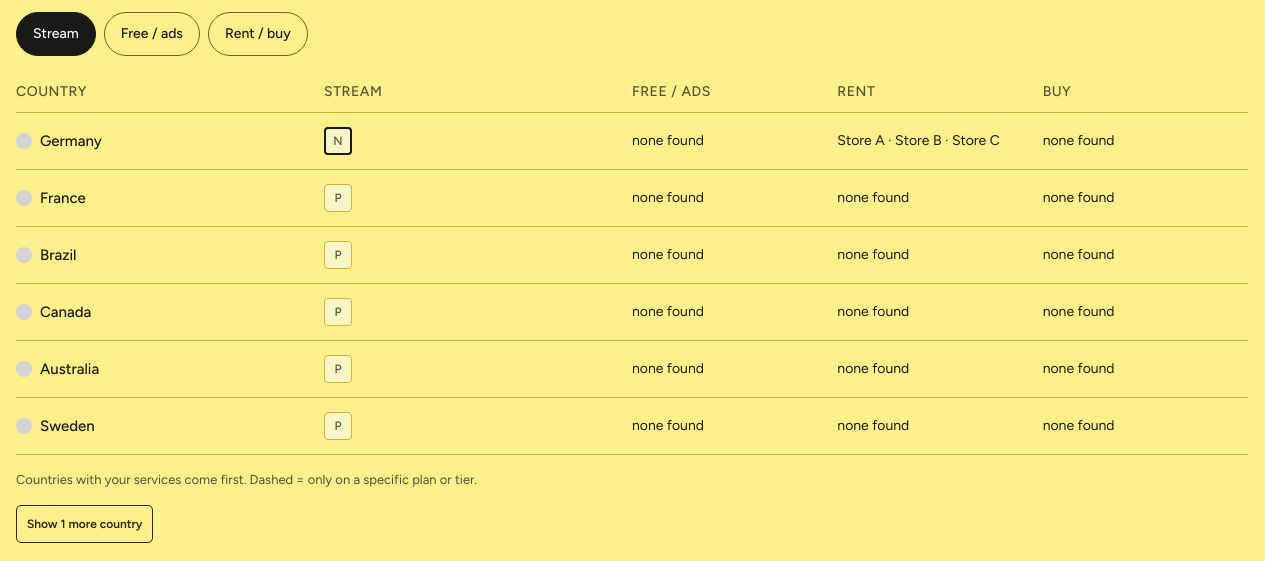
Test case: CountryTable › filters by offer type, then reveals the rest of that list
Expected: the text "Japan" is not shown
Expected: the text "Spain" is not shown
Click the button "Show 1 more country". click: (85, 524)
box: [16,505,153,543]
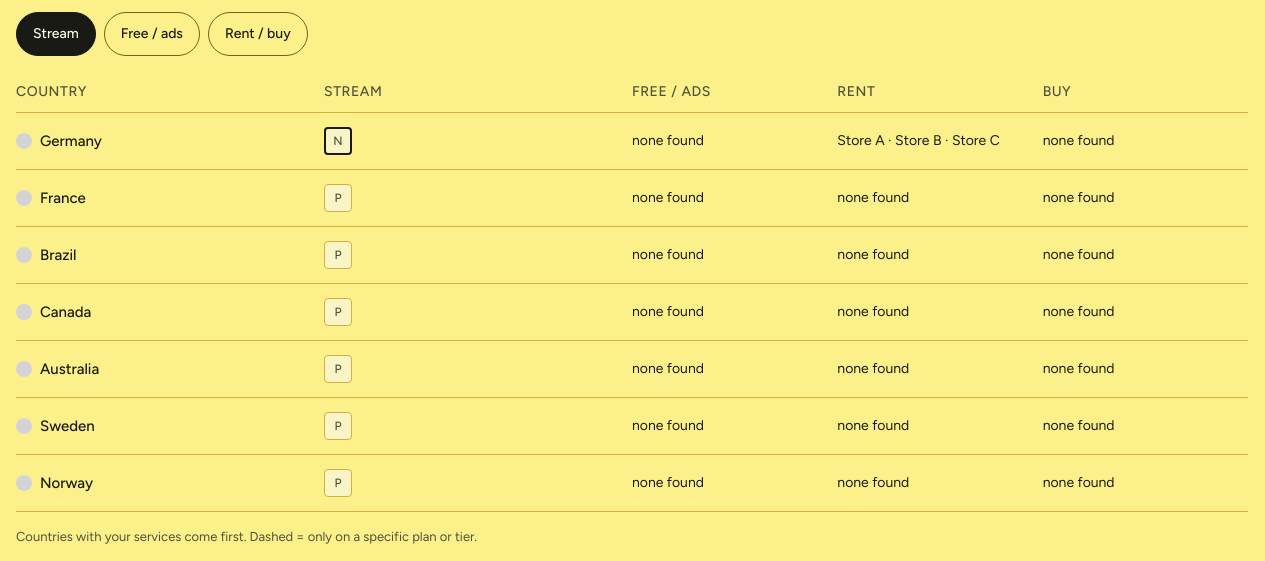
Expected: the text "Norway" is shown, [40,473,93,493]
Click the button "Rent / buy". click: (258, 34)
box: [208,12,308,56]
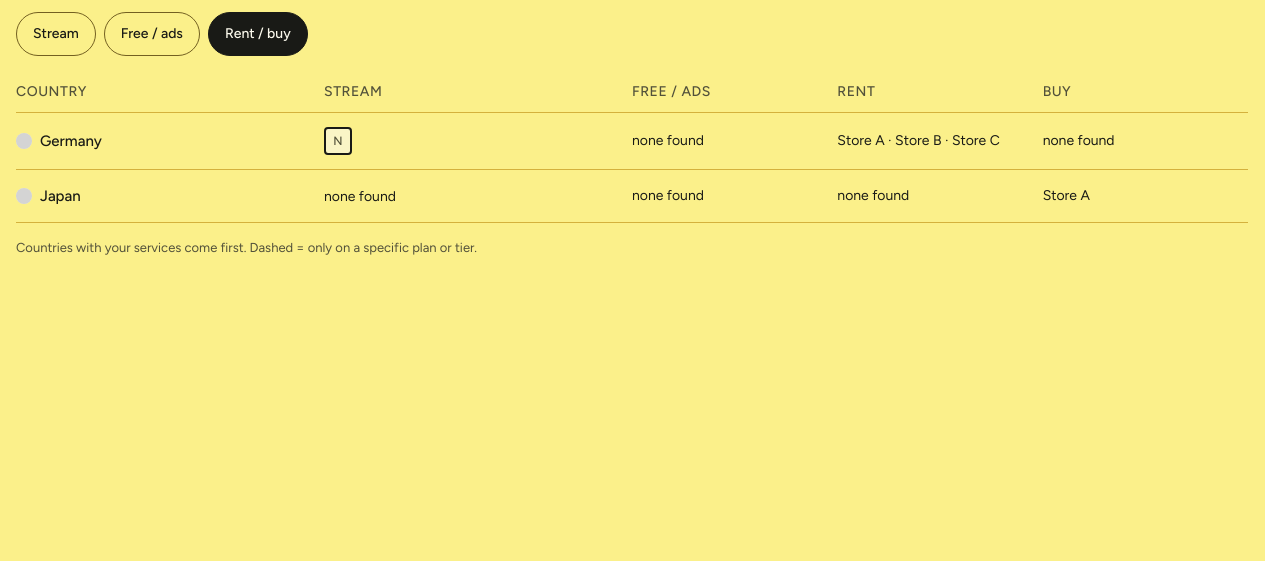
Expected: the text "Germany" is shown, [40,131,102,151]
Expected: the text "Japan" is shown, [40,186,81,206]
Expected: the text "France" is gone
Click the button "Free / ads". click: (152, 34)
box: [104,12,200,56]
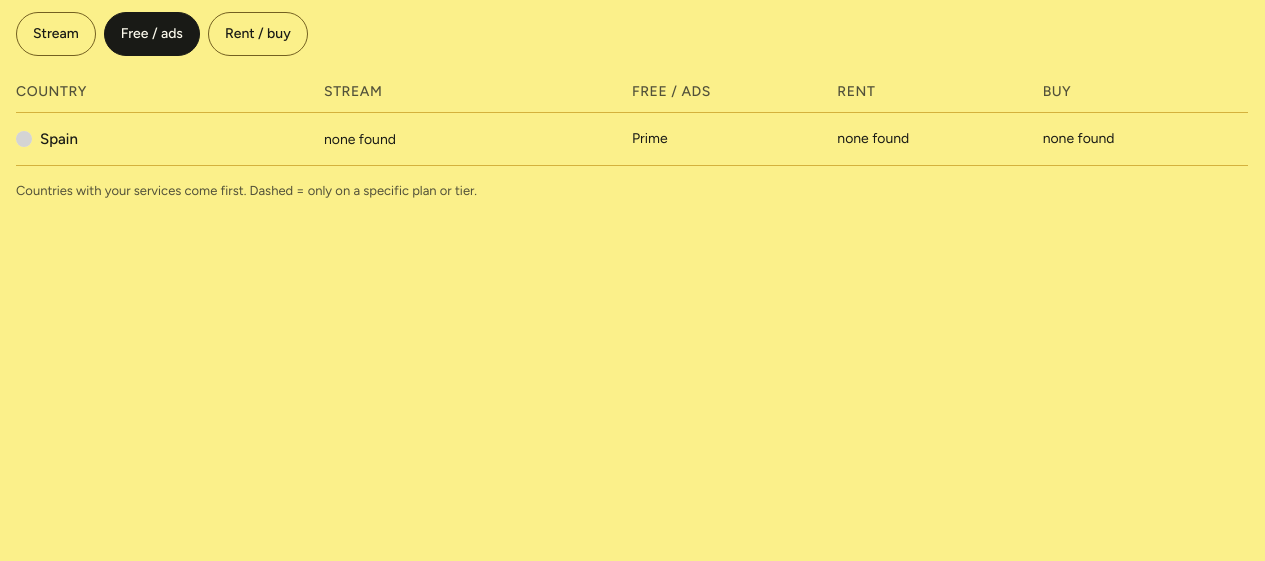
Expected: the text "Spain" is shown, [40,129,78,149]
Expected: the text "Germany" is gone
Click the button "Stream". click: (56, 34)
box: [16,12,96,56]
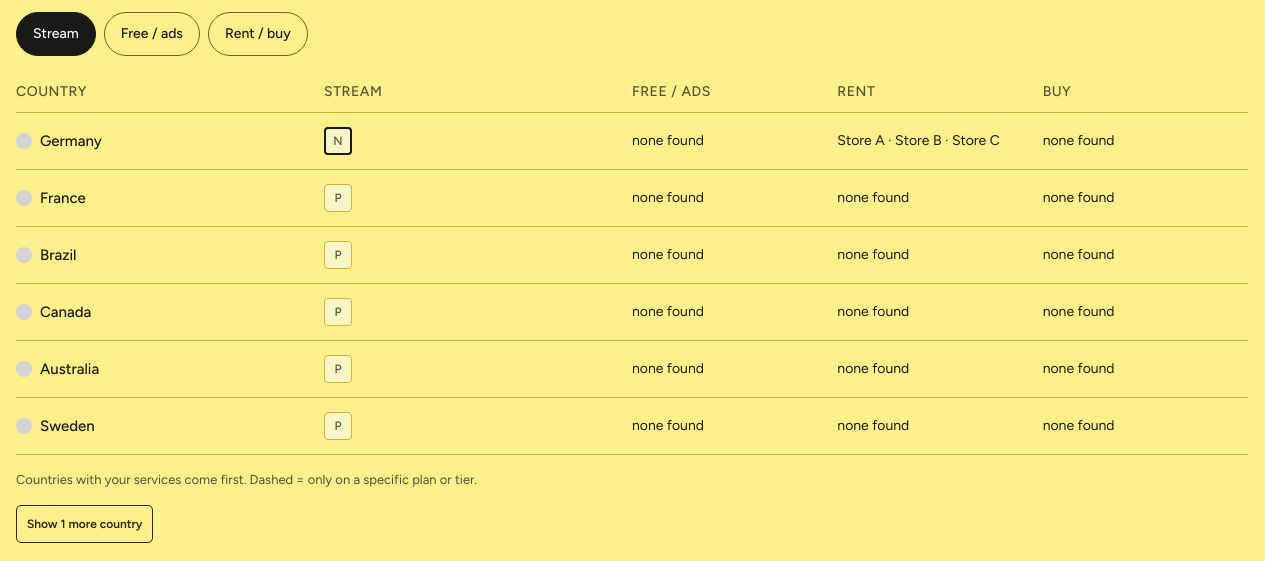
Expected: the text "Germany" is shown, [40,131,102,151]
